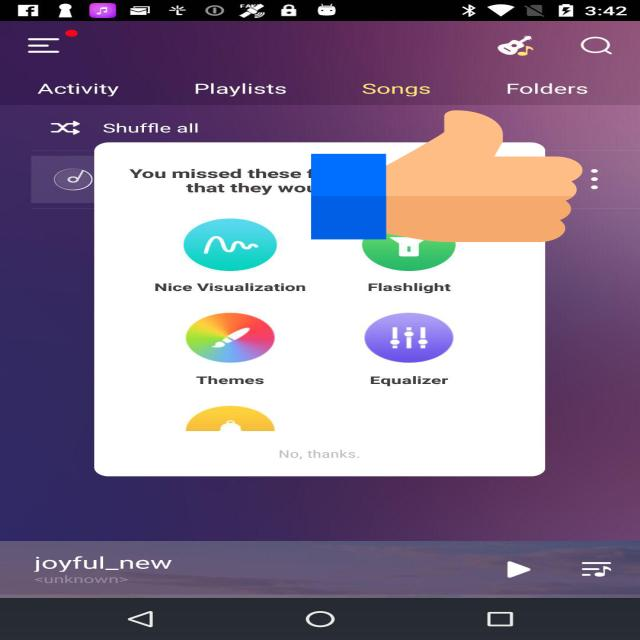privacy zuckering: (311, 107, 583, 245)
